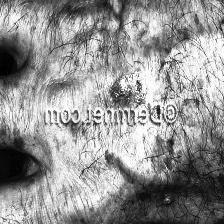Potentially Malignant Skin Tumors: (108, 71, 146, 102)
